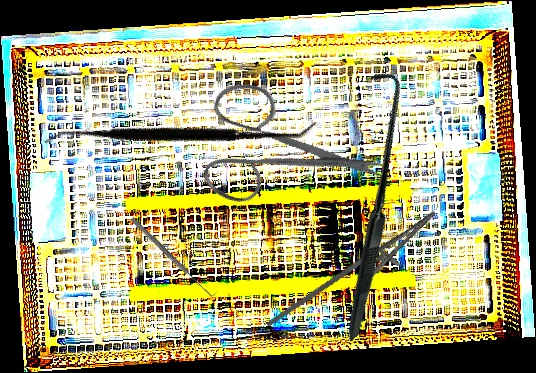Hook Surgical: (229, 65, 507, 342), (129, 213, 218, 300)
Iris Scissors: (171, 37, 394, 252)
Needle Holder: (265, 191, 447, 358)
Spatula Surgical: (41, 7, 319, 257)
